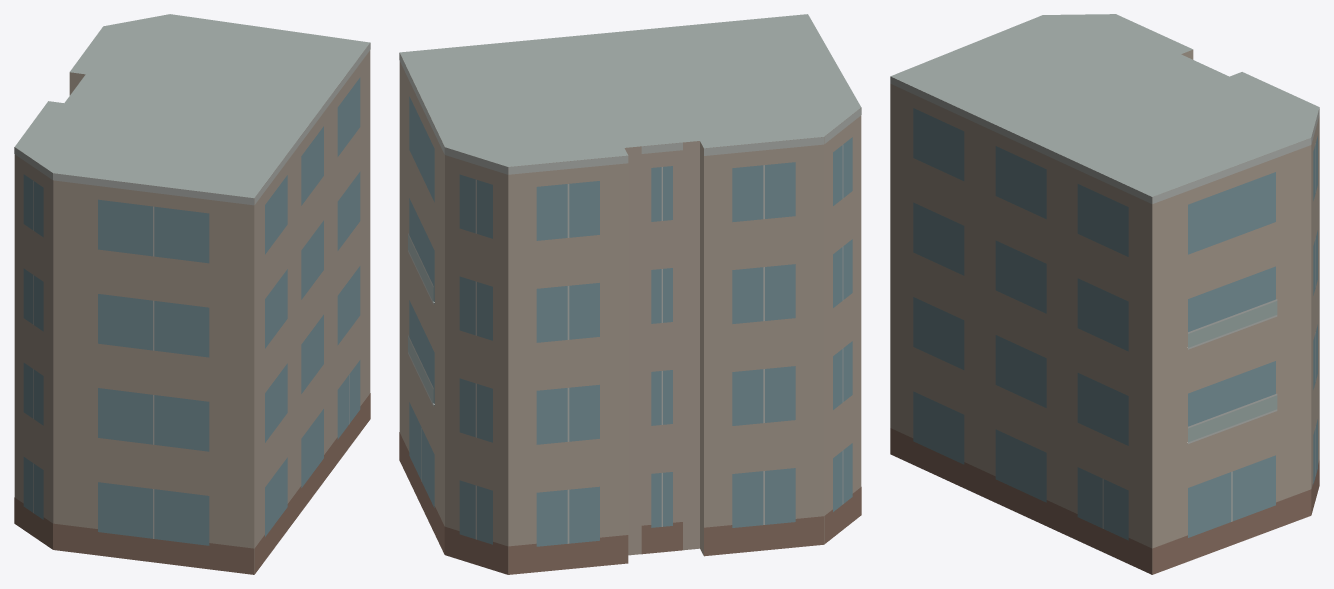
The model's file is survey-upis-32718070.glb.
3 views of the same model, side by side, from view 1: azimuth 30°, elevation 25°; view 2: azimuth 150°, elevation 25°; view 3: azimuth 270°, elevation 25° (orthographic). The views are drawn at different scales.
Visible parts, largest first — view 1: survey-upis-32718070.tmp; view 2: survey-upis-32718070.tmp; view 3: survey-upis-32718070.tmp.
Boxes of the visible parts, x1,y1,x2,y2 form: survey-upis-32718070.tmp: [14, 14, 370, 574]; survey-upis-32718070.tmp: [399, 14, 861, 574]; survey-upis-32718070.tmp: [890, 14, 1319, 574].
Bounding box in the file's own units: 13.31 × 12.8 × 13.19.
